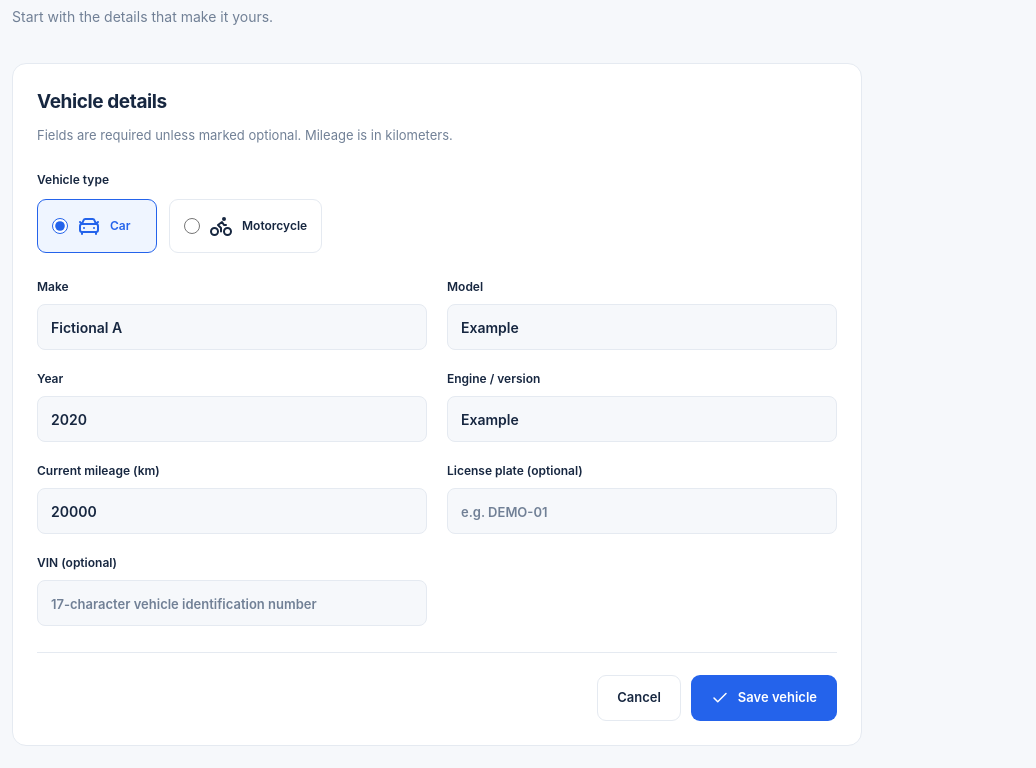
Scenario: removes an open draft after losing ownership and ignores an older save result
The image size is (1036, 768).
(page scrolled)
Expected: the field showing "Fictional A" is shown, [37,304,427,350]
Click the button "Save vehicle".
click(764, 698)  # box [691,675,837,721]
(page scrolled)
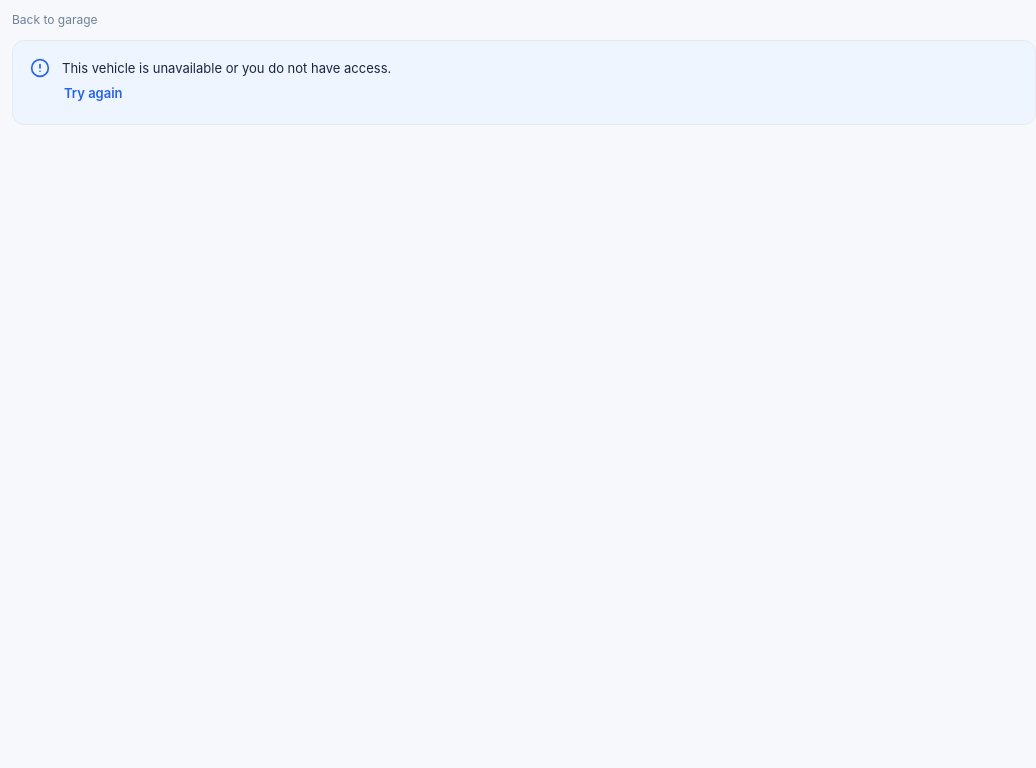
Expected: the field showing "Fictional A" is not shown
Expected: the text "This vehicle is unavailable or you do not have access." is shown, [62,58,391,79]
Expected: the button "Save vehicle" is gone
